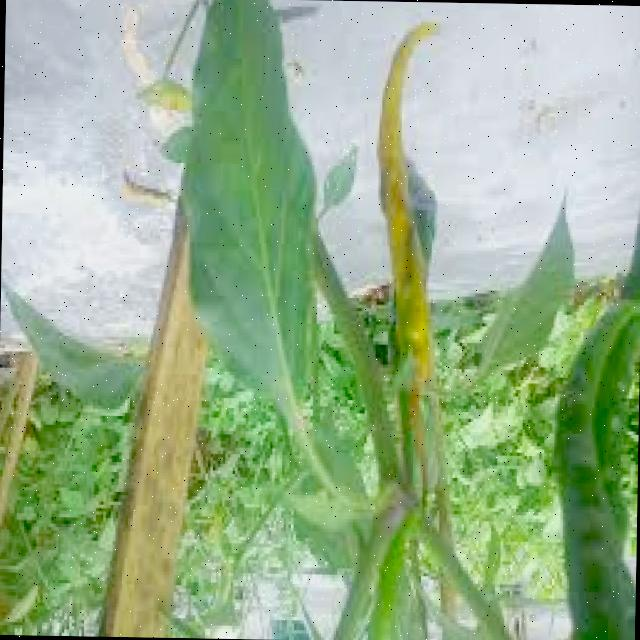healthy: (162, 0, 359, 531)
